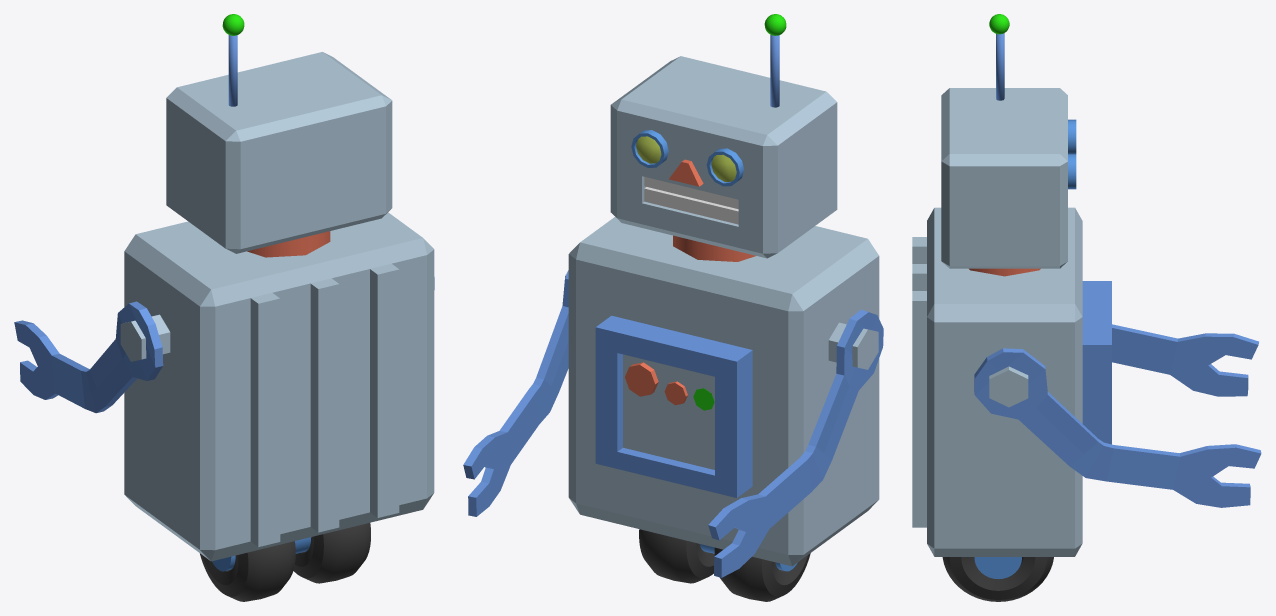
File: player0.glb
3 renders of one model, left to right at view 1: azimuth 30°, elevation 25°; view 2: azimuth 150°, elevation 25°; view 3: azimuth 270°, elevation 25°, orthographic. The views are drawn at different scales.
Visible parts, largest first — view 1: Cube, Cube.001, Plane, Torus, Cylinder, Cylinder.002; view 2: Cube, Cube.001, Plane, Torus, Cylinder.001, Cylinder, Cylinder.002, Cube.002; view 3: Cube, Cube.001, Plane, Torus, Cylinder.003, Cylinder.001, Cylinder.002.
Part boxes in pixels (x1,y1,x2,y2): Cube: [120, 212, 434, 561]; Cube.001: [166, 52, 392, 253]; Plane: [14, 277, 434, 413]; Torus: [200, 523, 370, 601]; Cylinder: [247, 231, 330, 257]; Cylinder.002: [228, 35, 237, 106]; Cube: [565, 217, 879, 566]; Cube.001: [610, 56, 837, 258]; Plane: [463, 270, 883, 577]; Torus: [639, 529, 810, 601]; Cylinder.001: [631, 130, 743, 186]; Cylinder: [673, 235, 755, 261]; Cylinder.002: [770, 35, 779, 107]; Cube.002: [669, 159, 703, 186]; Cube: [912, 207, 1111, 556]; Cube.001: [941, 88, 1067, 268]; Plane: [974, 324, 1261, 507]; Torus: [942, 557, 1053, 601]; Cylinder.003: [974, 557, 1021, 579]; Cylinder.001: [1068, 119, 1076, 189]; Cylinder.002: [996, 33, 1004, 100].
Bounding box in the file's own units: 0.5342 × 1.02 × 0.594.
